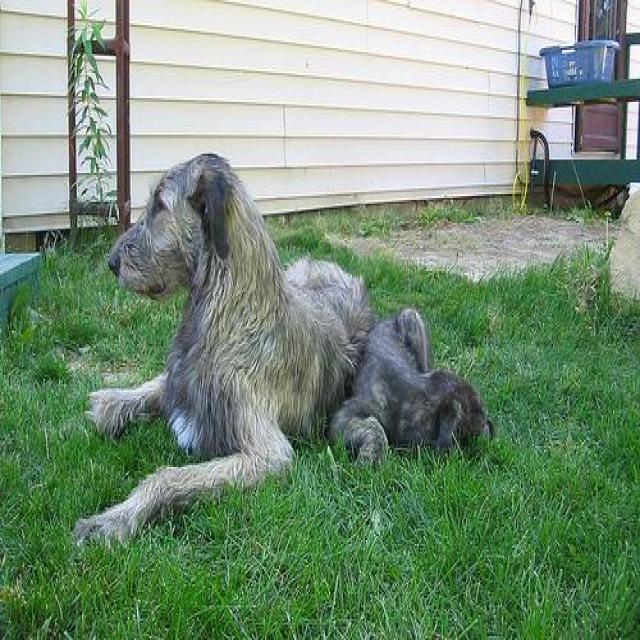irish_wolfhound: (70, 144, 372, 568), (328, 302, 503, 474)
